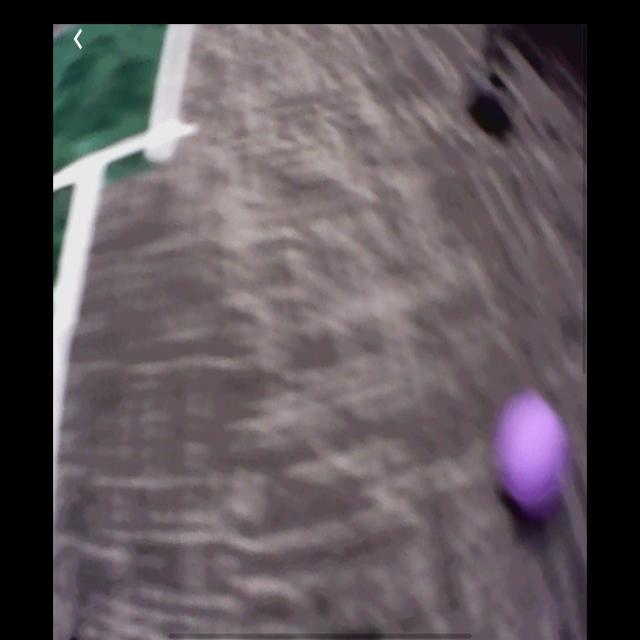ball: (492, 388, 573, 523)
